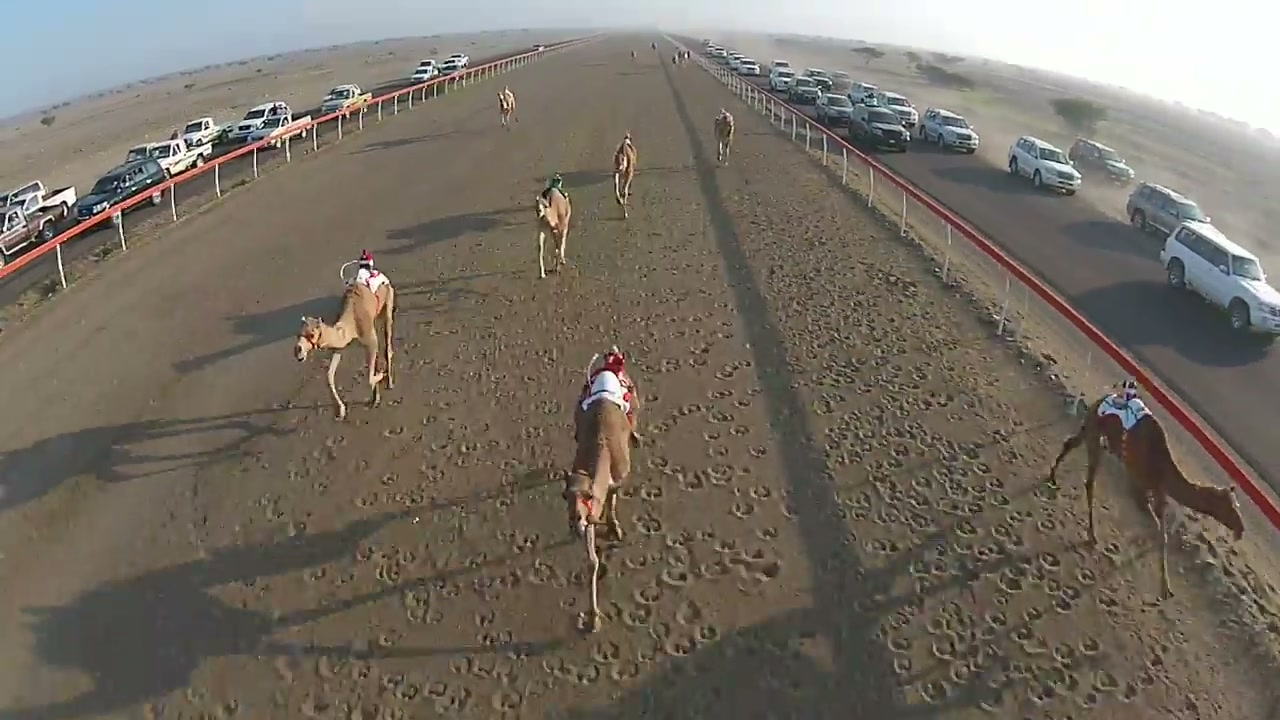animal_footprint: (88, 145, 1252, 719), (753, 202, 1179, 715), (288, 393, 783, 716), (827, 410, 1142, 711), (547, 448, 785, 694), (649, 387, 762, 492), (704, 463, 749, 486), (671, 469, 707, 491), (714, 360, 751, 381), (590, 640, 621, 663), (622, 550, 659, 569), (660, 566, 692, 587), (634, 515, 662, 534), (647, 417, 676, 435), (638, 483, 664, 501), (706, 407, 733, 424), (731, 500, 756, 518), (646, 453, 669, 470), (748, 484, 772, 500), (656, 358, 682, 372), (707, 388, 733, 400), (729, 425, 750, 436), (733, 397, 751, 408)
